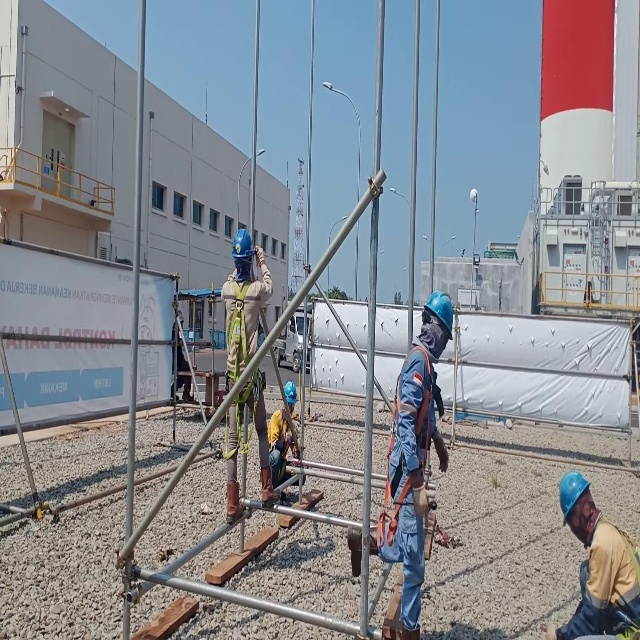Arnes_seguridad: (376, 338, 437, 559), (222, 279, 261, 462)
